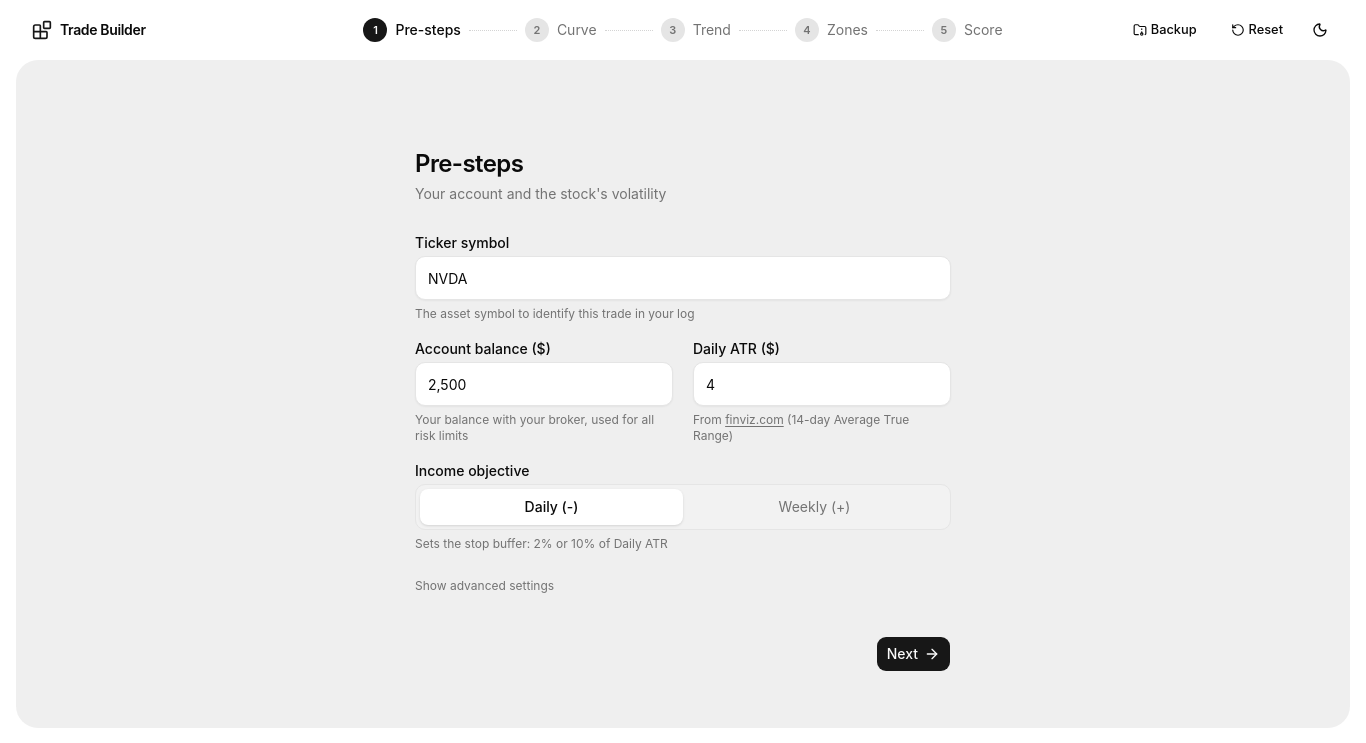
hydrating a save from before target modes existed: defaults to the percentage mode
Click the button "Show advanced settings": (485, 586) [415, 578, 554, 594]
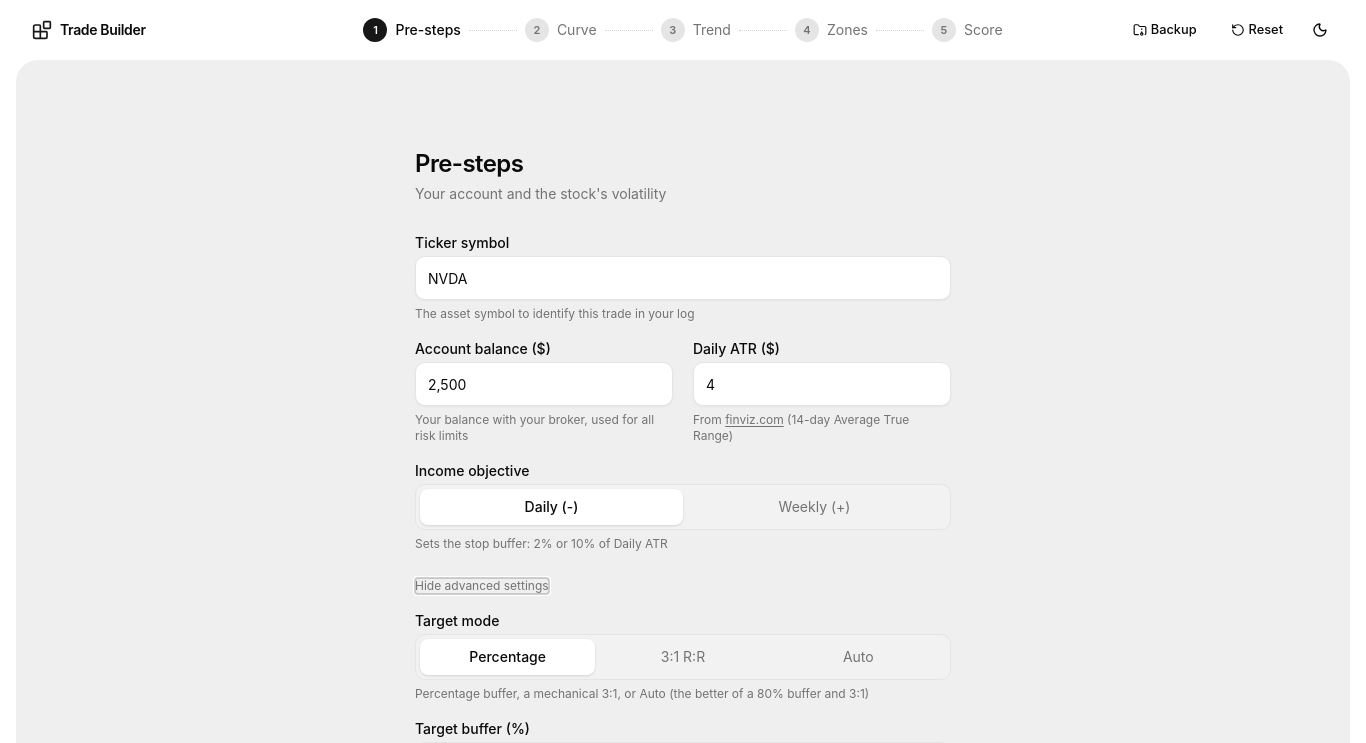
Expected: the radio button labelled "Percentage" is checked, [420, 639, 595, 675]
